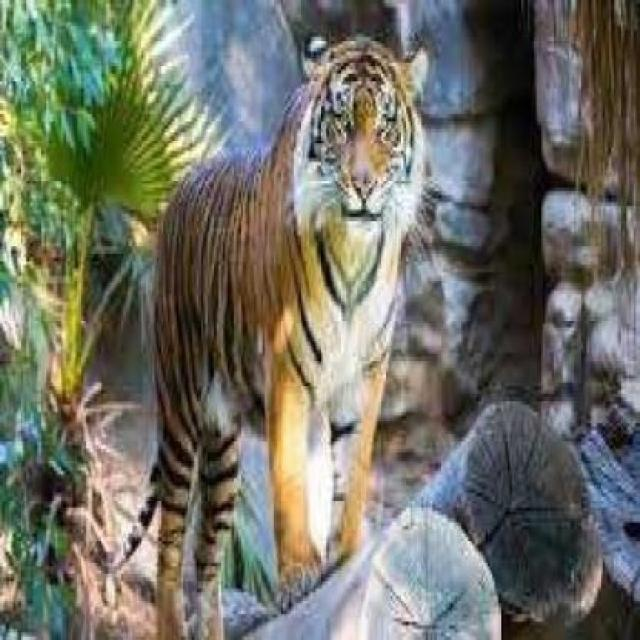tiger: (123, 32, 438, 637), (239, 398, 606, 638)
